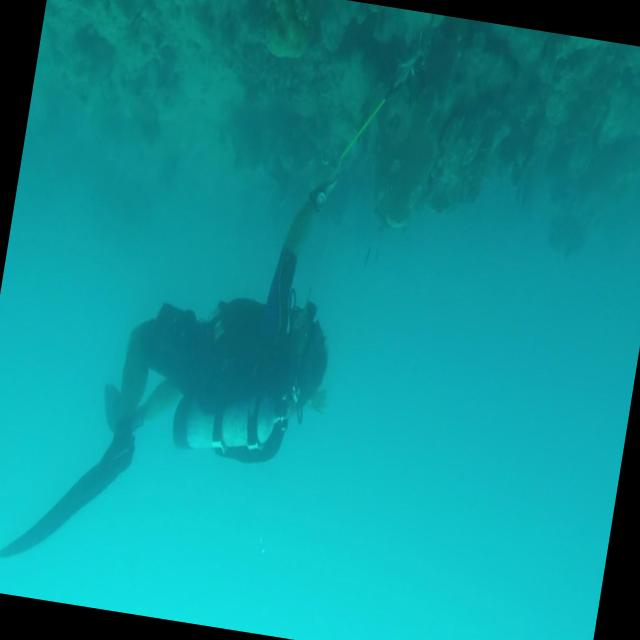human: (0, 126, 363, 608)
